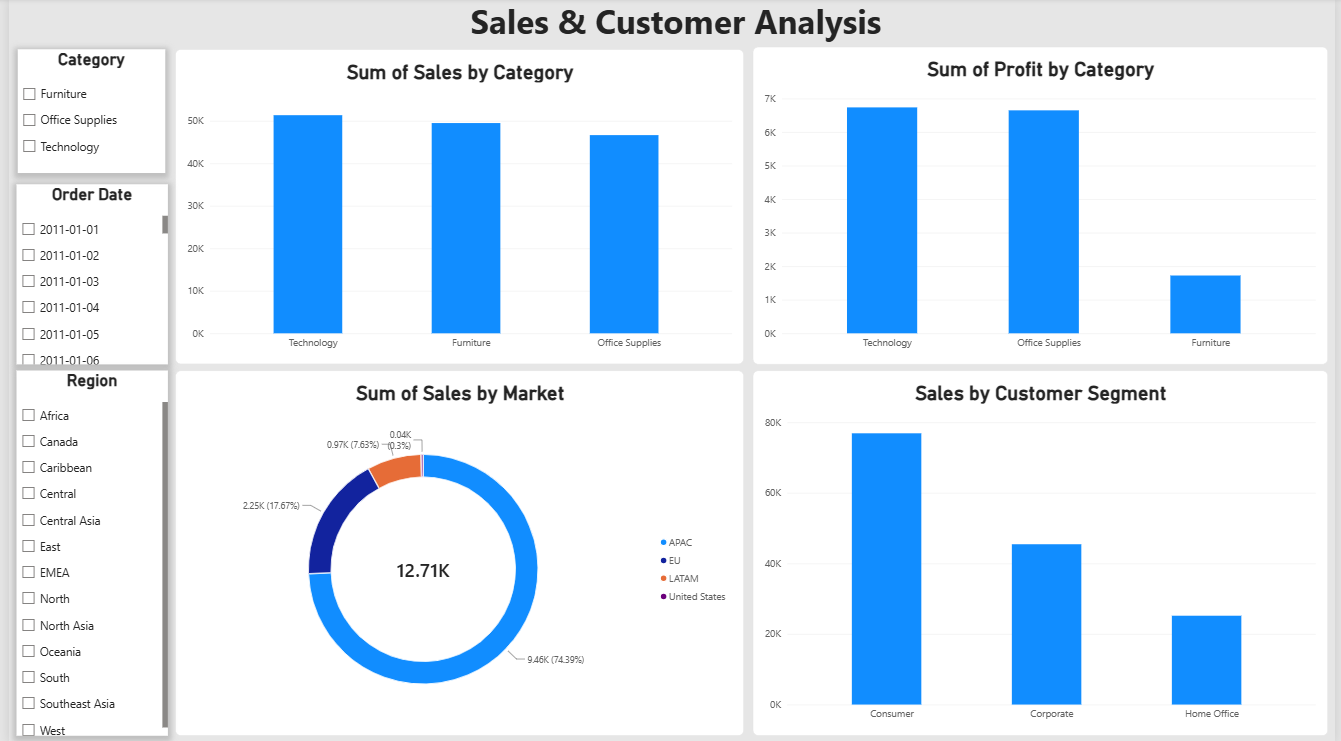

The dashboard page shown, as its layout file describes it:
{"tool":"powerbi","page":{"name":"SALES & CUSTOMER ANALYSIS","canvas":[1920,1080],"ordinal":1},"visuals":[{"type":"textbox","box":[10.6,0,1909.1,74.4],"z":0},{"type":"clusteredColumnChart","title":"Sum of Sales by Category","fields":{"Category":["superstore_db orders.category"],"Y":["Sum(superstore_db orders.sales)"]},"box":[240.7,74.2,823.4,456],"z":1000},{"type":"clusteredColumnChart","title":"Sum of Profit by Category","fields":{"Category":["superstore_db orders.category"],"Y":["Sum(superstore_db orders.profit)"]},"box":[1076.7,70.6,832.4,459.7],"z":2000},{"type":"donutChart","title":"Sum of Sales by Market","fields":{"Category":["superstore_db returns.market"],"Y":["Sum(superstore_db orders.sales)"]},"box":[240.7,539.3,823.4,528.4],"z":3000},{"type":"slicer","title":"Order Date","fields":{"Values":["superstore_db orders.order_date"]},"box":[10.9,269.6,219,260.6],"z":4000},{"type":"slicer","title":"Category","fields":{"Values":["superstore_db orders.category"]},"box":[12.7,74.2,213.5,179.2],"z":5000},{"type":"clusteredColumnChart","title":"Sales by Customer Segment","fields":{"Category":["superstore_db orders.segment"],"Y":["Sum(superstore_db orders.sales)"]},"box":[1076.7,539.3,832.4,528.4],"z":6000},{"type":"slicer","title":"Region","fields":{"Values":["superstore_db orders.region"]},"box":[10.9,539.3,219,528.4],"z":7000}]}

Visuals, with their boxes in screenshot pixels (x1, y1, x2, y2), scaled from the page's 1920x1080 canvas onto the 1341x741 screenshot:
textbox: (7,0,1340,51)
"Sum of Sales by Category" clusteredColumnChart: (168,51,743,364)
"Sum of Profit by Category" clusteredColumnChart: (752,48,1333,364)
"Sum of Sales by Market" donutChart: (168,370,743,733)
"Order Date" slicer: (8,185,161,364)
"Category" slicer: (9,51,158,174)
"Sales by Customer Segment" clusteredColumnChart: (752,370,1333,733)
"Region" slicer: (8,370,161,733)
